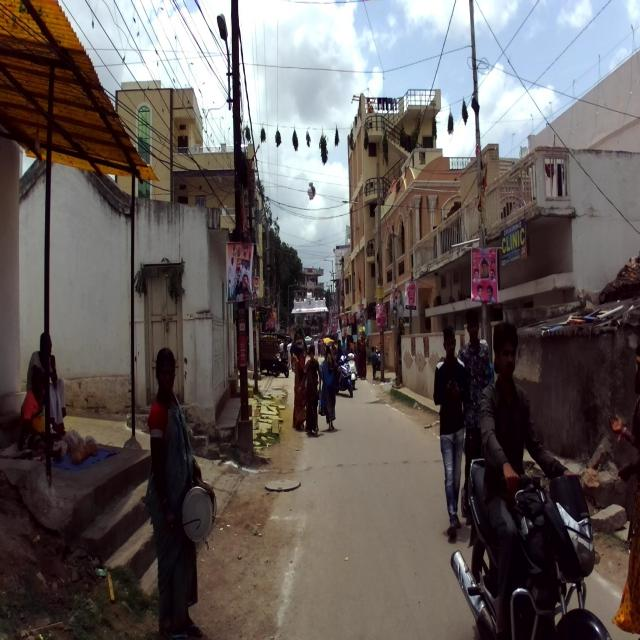motorcycle_Honda: (450, 456, 611, 638)
